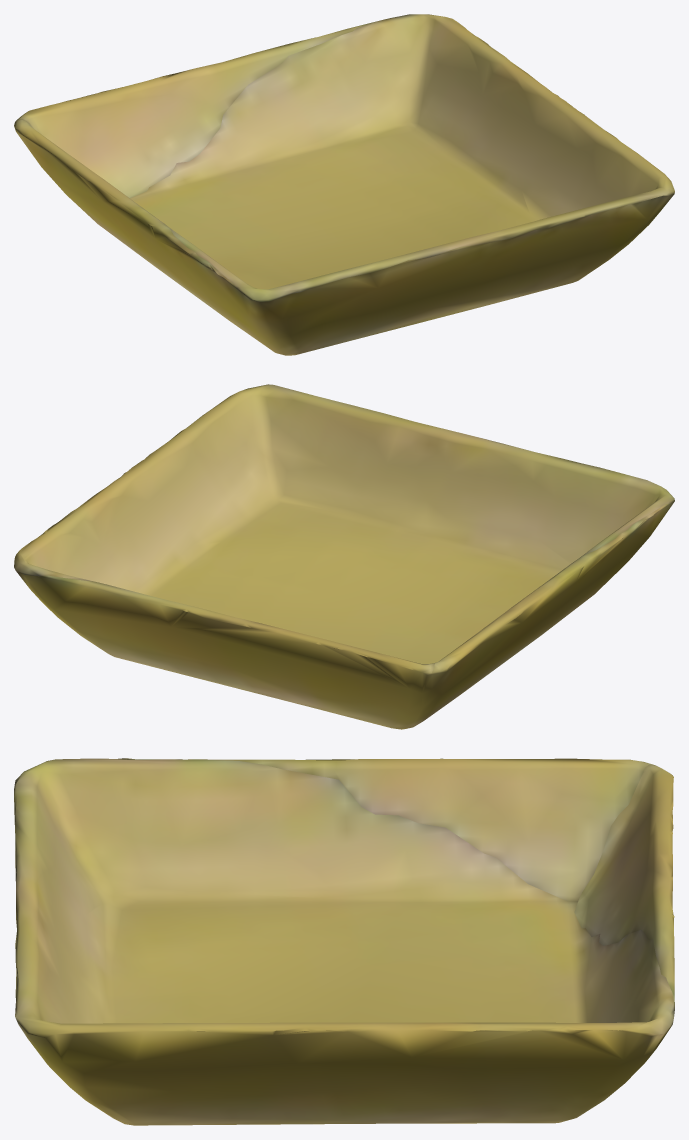
File: Ecoforms_Plant_Saucer_SQ1HARVEST-medium.glb
3 views of the same model, one above another, from view 1: azimuth 30°, elevation 25°; view 2: azimuth 150°, elevation 25°; view 3: azimuth 270°, elevation 25° (orthographic). The views are drawn at different scales.
Parts seen in each view (by area): view 1: Ecoforms_Plant_Saucer_SQ1HARVEST; view 2: Ecoforms_Plant_Saucer_SQ1HARVEST; view 3: Ecoforms_Plant_Saucer_SQ1HARVEST.
Part boxes in pixels (x1,y1,x2,y2): Ecoforms_Plant_Saucer_SQ1HARVEST: (14,14,674,355); Ecoforms_Plant_Saucer_SQ1HARVEST: (14,384,674,729); Ecoforms_Plant_Saucer_SQ1HARVEST: (14,758,674,1125).
Size of the model in its own units: 0.0865 by 0.0209 by 0.0864.
1 material, 1 textured.
